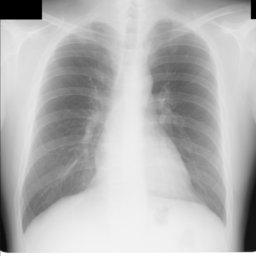left lobe: (149, 22, 226, 220)
right lobe: (22, 23, 115, 230)
